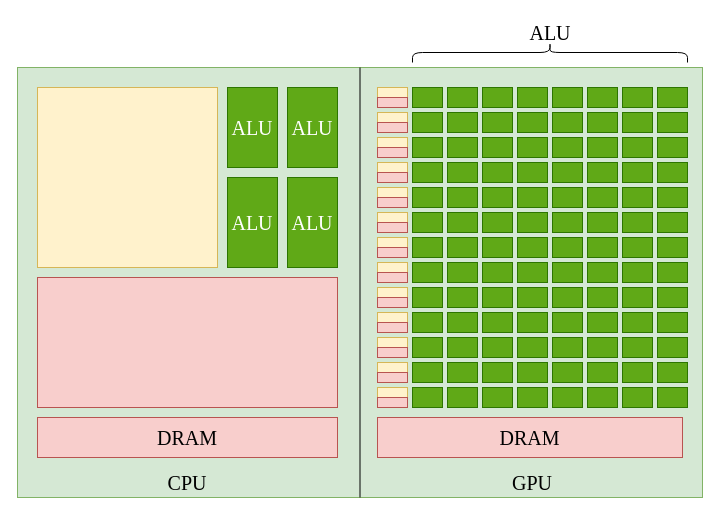
Image size: 720x516. Some labels were removed from this diagram. Each missing label, with the box of its shape:
Cache: (36, 276, 338, 408)
Control: (36, 86, 218, 268)
